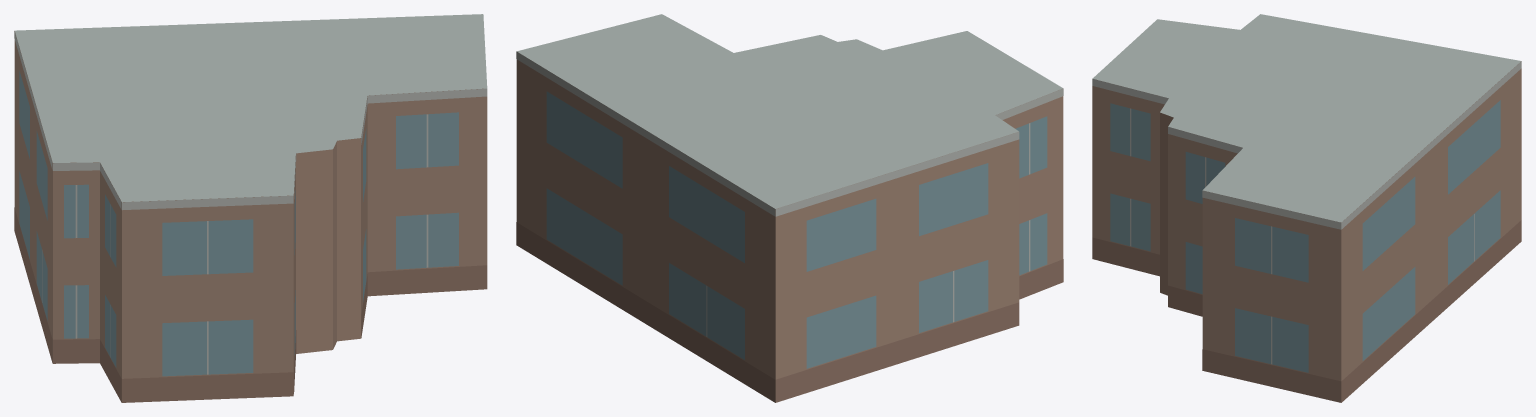
The model's file is survey-upis-32656354.glb.
3 views of the same model, side by side, from view 1: azimuth 30°, elevation 25°; view 2: azimuth 150°, elevation 25°; view 3: azimuth 270°, elevation 25° (orthographic). The views are drawn at different scales.
Parts seen in each view (by area): view 1: survey-upis-32656354.tmp; view 2: survey-upis-32656354.tmp; view 3: survey-upis-32656354.tmp.
Boxes of the visible parts, box(x1,y1,x2,y2) form: survey-upis-32656354.tmp: box(14, 14, 487, 402); survey-upis-32656354.tmp: box(516, 14, 1063, 402); survey-upis-32656354.tmp: box(1092, 14, 1521, 402).
Bounding box in the file's own units: 15.14 × 6.1 × 13.17.
